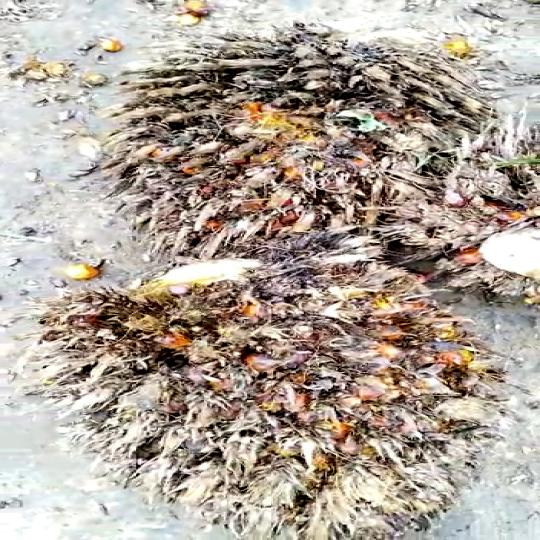terlalu masak: (36, 244, 502, 540), (100, 15, 500, 256)
